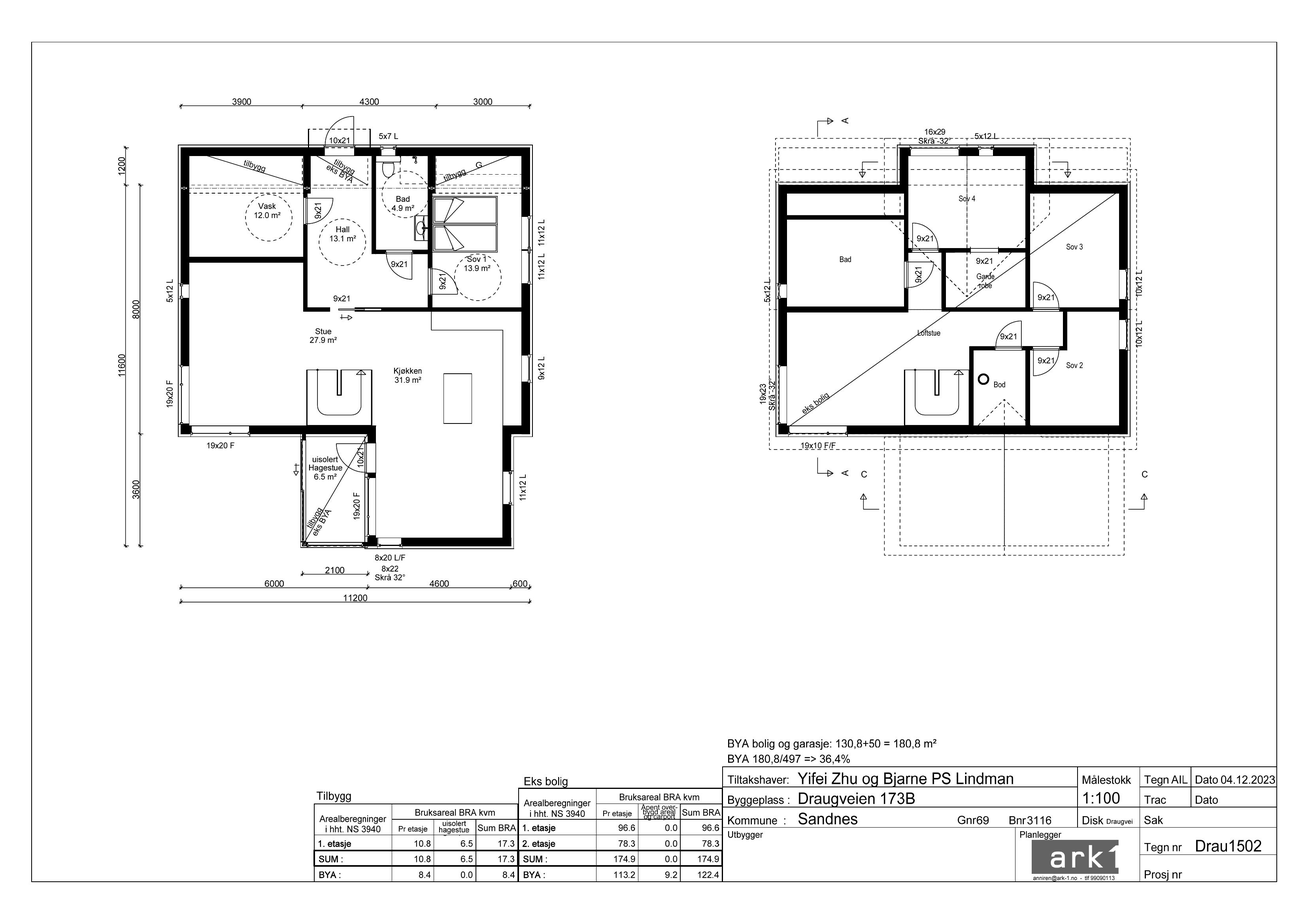plantegning: (176, 115, 535, 551), (774, 143, 1132, 439)
